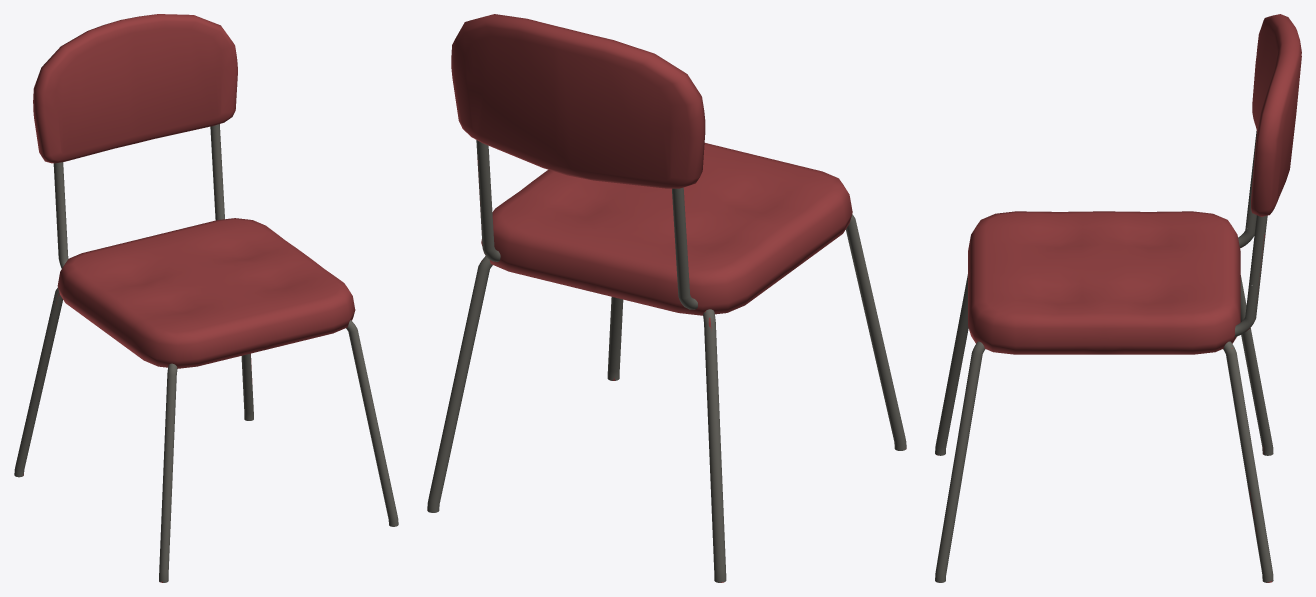
File: sillaRoja.fbx
The picture shows the model from 3 angles, left to right: view 1: azimuth 30°, elevation 25°; view 2: azimuth 150°, elevation 25°; view 3: azimuth 270°, elevation 25°; orthographic projection. The views are drawn at different scales.
Parts seen in each view (by area): view 1: soporte respaldo; view 2: soporte respaldo; view 3: soporte respaldo.
Boxes of the visible parts, x1=… form: soporte respaldo: x1=14, y1=14, x2=398, y2=582; soporte respaldo: x1=427, y1=14, x2=906, y2=582; soporte respaldo: x1=935, y1=14, x2=1301, y2=582.
Size of the model in its own units: 54.01 by 90.93 by 63.55.
